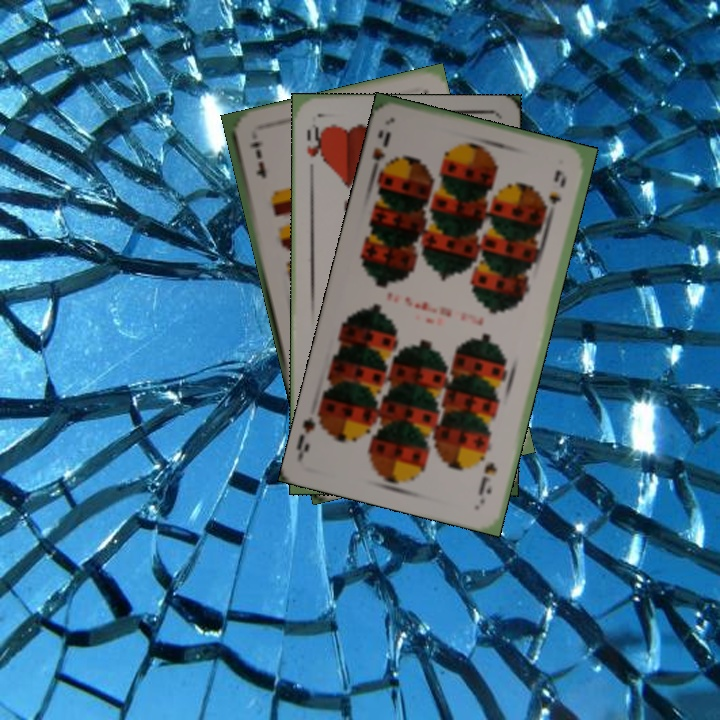E7: (245, 138, 269, 180)
HO: (303, 120, 326, 178)
S9: (366, 127, 393, 180), (480, 458, 500, 497)
